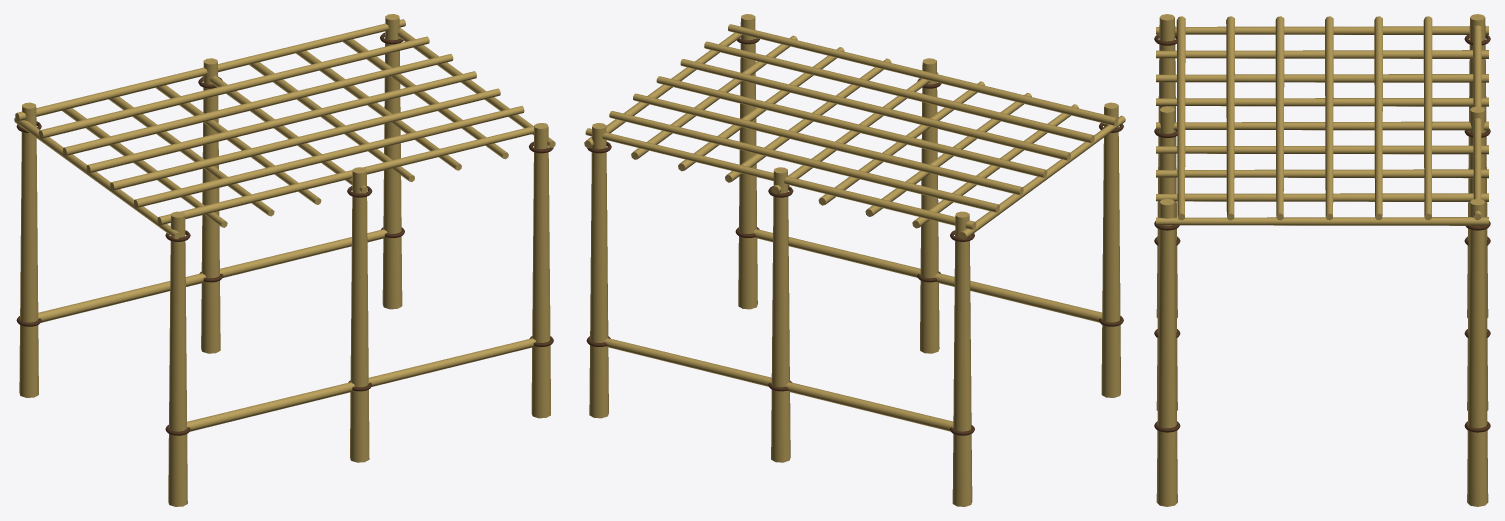
Rendered from LV_GIAN_LEO_TRE_01.glb.
3 views of the same model, side by side, from view 1: azimuth 30°, elevation 25°; view 2: azimuth 150°, elevation 25°; view 3: azimuth 270°, elevation 25° (orthographic). The views are drawn at different scales.
Visible parts, largest first — view 1: LV_GIAN_LEO_TRE_01-surface-b59b56, LV_GIAN_LEO_TRE_01-surface-50351f; view 2: LV_GIAN_LEO_TRE_01-surface-b59b56, LV_GIAN_LEO_TRE_01-surface-50351f; view 3: LV_GIAN_LEO_TRE_01-surface-b59b56, LV_GIAN_LEO_TRE_01-surface-50351f.
Part boxes in pixels (x1,y1,x2,y2): LV_GIAN_LEO_TRE_01-surface-b59b56: (14,14,555,506); LV_GIAN_LEO_TRE_01-surface-50351f: (16,32,553,435); LV_GIAN_LEO_TRE_01-surface-b59b56: (584,14,1125,506); LV_GIAN_LEO_TRE_01-surface-50351f: (586,38,1123,435); LV_GIAN_LEO_TRE_01-surface-b59b56: (1156,14,1488,506); LV_GIAN_LEO_TRE_01-surface-50351f: (1154,34,1490,432).
Bounding box in the file's own units: 3.3 × 2.35 × 2.39.
